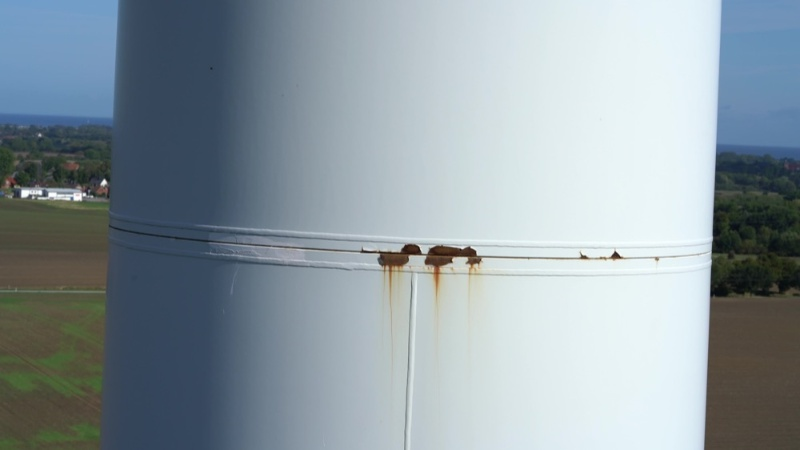weldseam: (104, 202, 716, 250), (105, 233, 714, 281), (399, 264, 419, 450)
